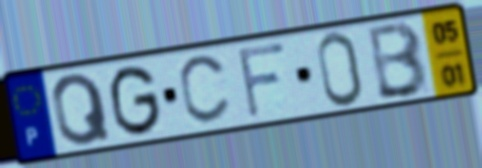0: (314, 28, 366, 110)
B: (367, 18, 432, 102)
C: (176, 52, 234, 128)
F: (234, 39, 289, 122)
G: (108, 62, 165, 139)
Q: (49, 70, 115, 149)
